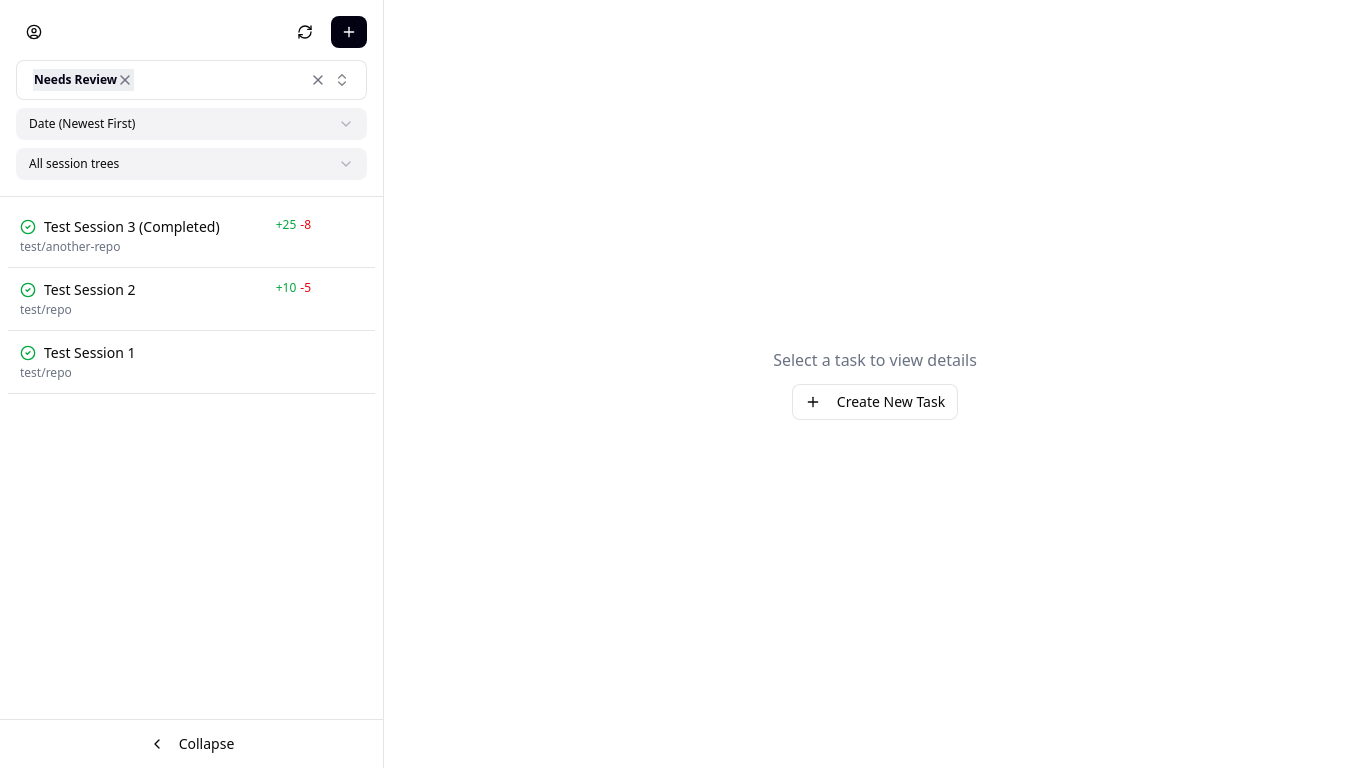
it: User Flows Integration Tests › Selecting and Viewing a Session › should display session details when a session is clicked
The image size is (1366, 768).
# Click on a session
Step 1. Click the heading "Test Session 1" → coordinates (90, 353), box [44,343,136,363]
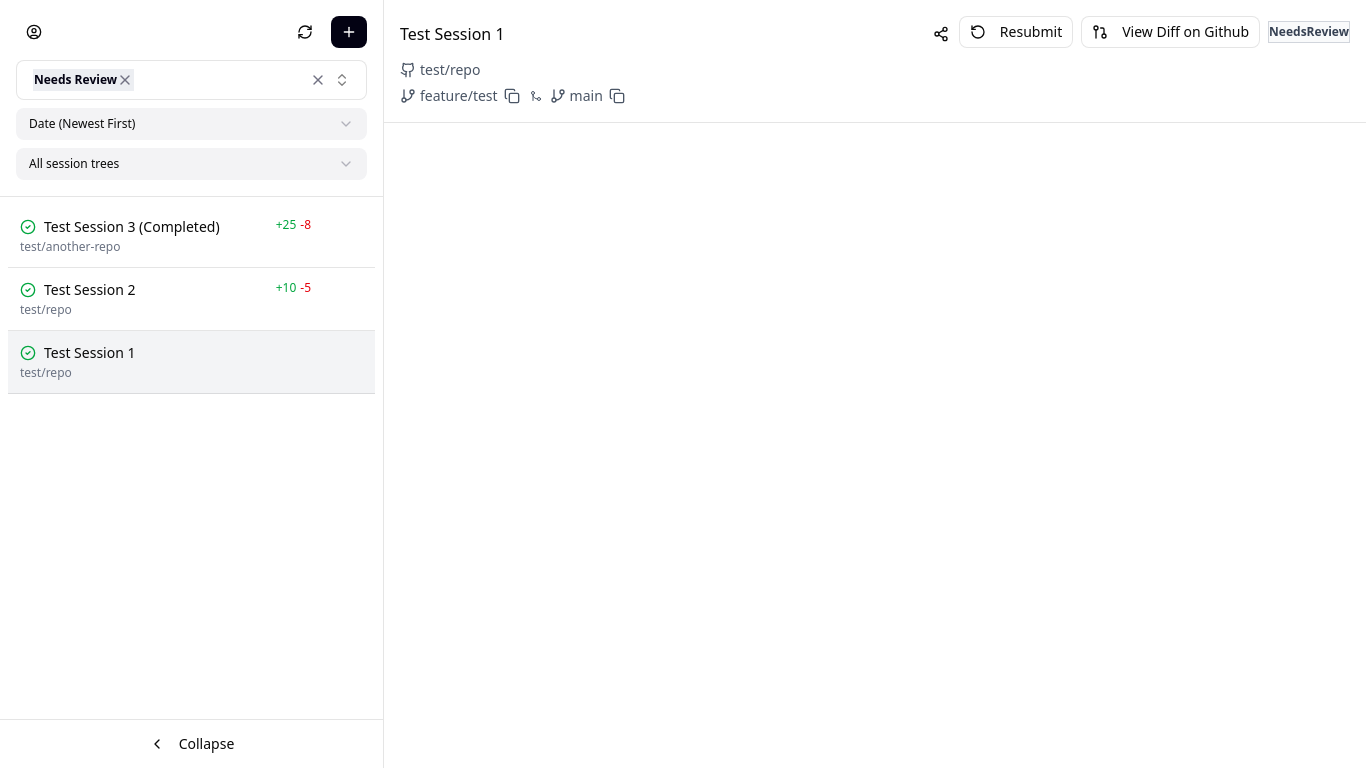
Check: the link "test/repo" below "Test Session 2" is shown, box [20,302,72,318]
Check: the link "feature/test" is shown, box [420,86,498,106]
Check: the link "main" is shown, box [570,86,603,106]
